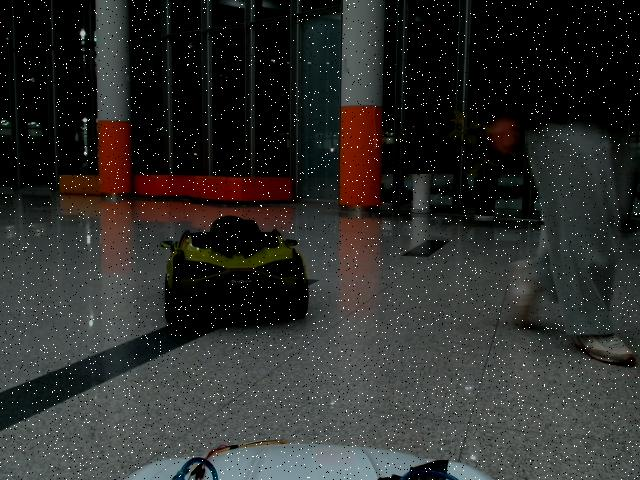car: (160, 215, 310, 324)
